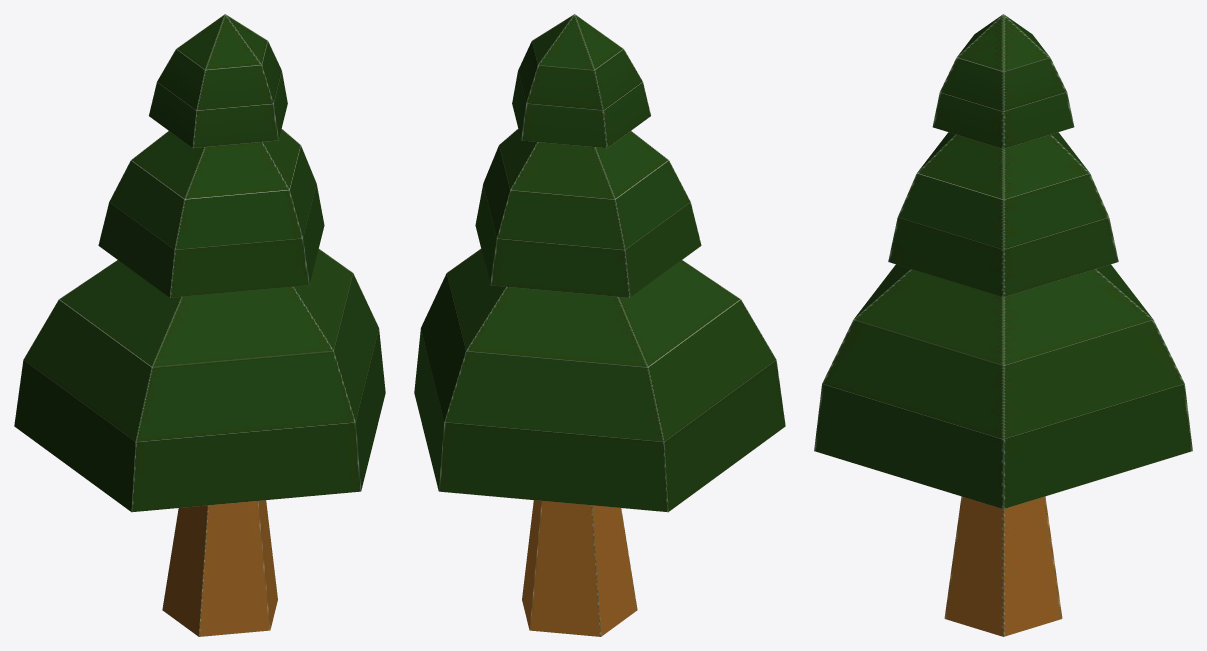
File: tree_03.fbx
3 renders of one model, left to right at view 1: azimuth 30°, elevation 25°; view 2: azimuth 150°, elevation 25°; view 3: azimuth 270°, elevation 25°, orthographic.
Parts seen in each view (by area): view 1: pCone1; view 2: pCone1; view 3: pCone1.
Part boxes in pixels (left/top/right/bottom): pCone1: left=14, top=14, right=385, bottom=636; pCone1: left=414, top=14, right=785, bottom=636; pCone1: left=814, top=14, right=1192, bottom=636.
Bounding box in the file's own units: 7.29 × 13.34 × 7.67.
